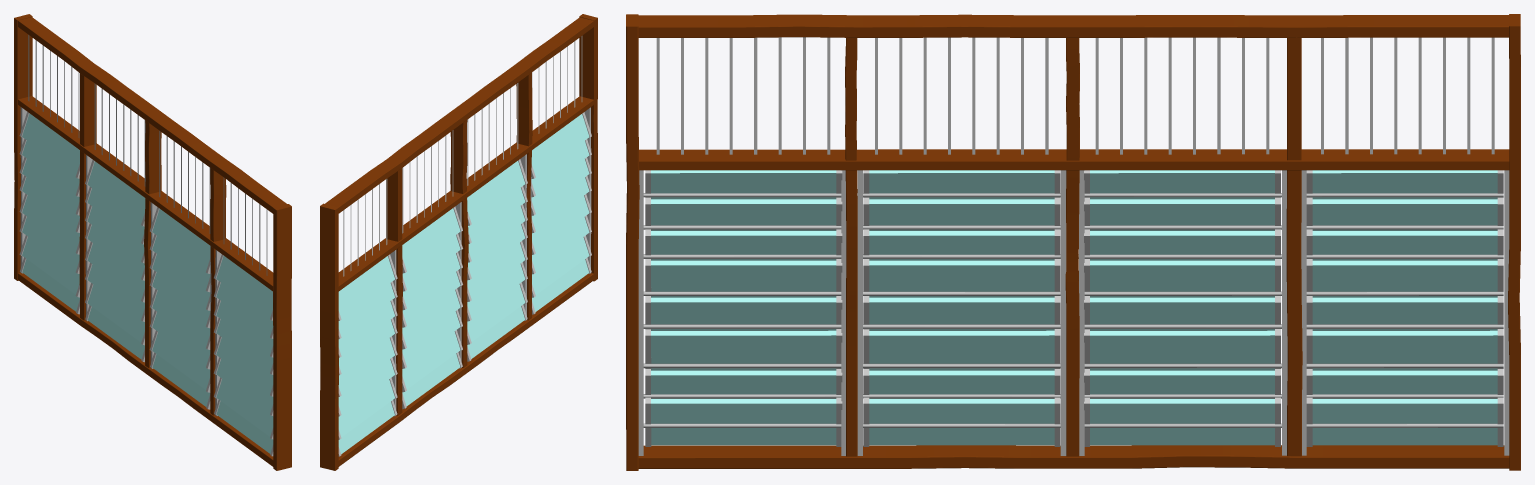
File: Window_Set_A.fbx
The picture shows the model from 3 angles, left to right: view 1: azimuth 30°, elevation 25°; view 2: azimuth 150°, elevation 25°; view 3: azimuth 270°, elevation 25°; orthographic projection. The views are drawn at different scales.
Parts seen in each view (by area): view 1: Cube__12__123_4, Cube__12__74_4, Cube__12__58_4, Cube__12__53_4, Cube__12__90_4, Cube__12__86_4, Cube__12__102_4, Cube__12__43_4, Cube__12__70_4, Cube__12__82_4, Cube__12__98_4, Cube__12__45_4 (+29 smaller); view 2: Cube__12__123_4, Cube__12__58_4, Cube__12__74_4, Cube__12__90_4, Cube__12__53_4, Cube__12__70_4, Cube__12__86_4, Cube__12__102_4, Cube__12__43_4, Cube__12__66_4, Cube__12__82_4, Cube__12__98_4 (+29 smaller); view 3: Cube__12__123_4, Cube__12__88_4, Cube__12__104_4, Cube__12__33_4, Cube__12__72_4, Cube__12__83_4, Cube__12__55_4, Cube__12__99_4, Cube__12__67_4, Cube__12__80_4, Cube__12__96_4, Cube__12__47_4 (+41 smaller).
Part boxes in pixels (box(x1,y1,x2,y2)): Cube__12__123_4: box(14, 14, 291, 470); Cube__12__74_4: box(152, 209, 210, 270); Cube__12__58_4: box(87, 161, 145, 223); Cube__12__53_4: box(22, 113, 79, 175); Cube__12__90_4: box(216, 256, 272, 317); Cube__12__86_4: box(152, 332, 210, 389); Cube__12__102_4: box(216, 379, 273, 436); Cube__12__43_4: box(22, 237, 79, 294); Cube__12__70_4: box(87, 284, 144, 342); Cube__12__82_4: box(152, 290, 210, 346); Cube__12__98_4: box(216, 337, 273, 393); Cube__12__45_4: box(22, 195, 79, 251); Cube__12__123_4: box(320, 14, 597, 470); Cube__12__58_4: box(402, 208, 460, 270); Cube__12__74_4: box(467, 161, 525, 223); Cube__12__90_4: box(531, 114, 589, 175); Cube__12__53_4: box(338, 256, 394, 318); Cube__12__70_4: box(402, 331, 460, 389); Cube__12__86_4: box(467, 284, 525, 341); Cube__12__102_4: box(532, 237, 589, 294); Cube__12__43_4: box(338, 379, 394, 437); Cube__12__66_4: box(402, 290, 460, 346); Cube__12__82_4: box(467, 242, 525, 299); Cube__12__98_4: box(532, 195, 589, 251); Cube__12__123_4: box(626, 14, 1520, 470); Cube__12__88_4: box(869, 399, 1054, 445); Cube__12__104_4: box(651, 399, 836, 445); Cube__12__33_4: box(1312, 399, 1497, 445); Cube__12__72_4: box(1090, 399, 1274, 445); Cube__12__83_4: box(869, 330, 1054, 370); Cube__12__55_4: box(1312, 330, 1497, 370); Cube__12__99_4: box(651, 330, 836, 370); Cube__12__67_4: box(1090, 330, 1274, 370); Cube__12__80_4: box(869, 260, 1054, 297); Cube__12__96_4: box(651, 260, 836, 297); Cube__12__47_4: box(1312, 260, 1497, 297).
Size of the model in its own units: 11.92 by 193 by 352.
